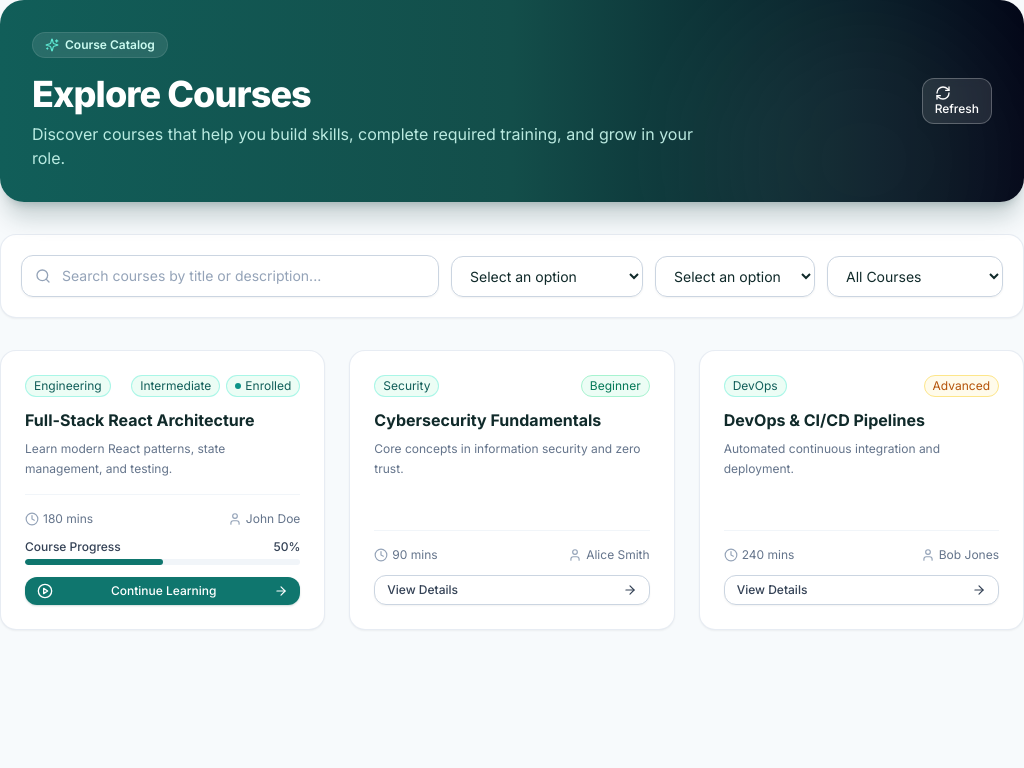
Test: CoursesPage (Scenarios 1-8) › 7. filters courses by search query
Check: the heading "Full-Stack React Architecture" is shown, box [25,410,254,430]
In the field with placeholder "Search courses by title or description...": (230, 276) [21,255,439,297], type "Cybersecurity"
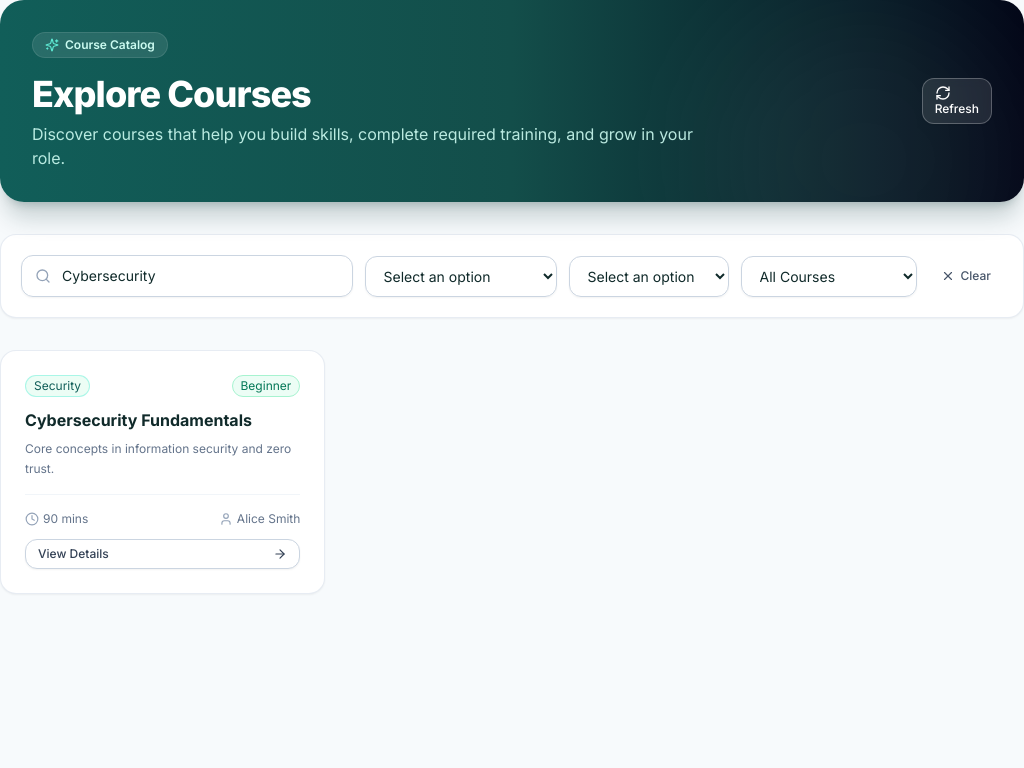
Check: the heading "Cybersecurity Fundamentals" is shown, box [25,410,252,430]
Check: the heading "Full-Stack React Architecture" is gone
Check: the heading "DevOps & CI/CD Pipelines" is gone
